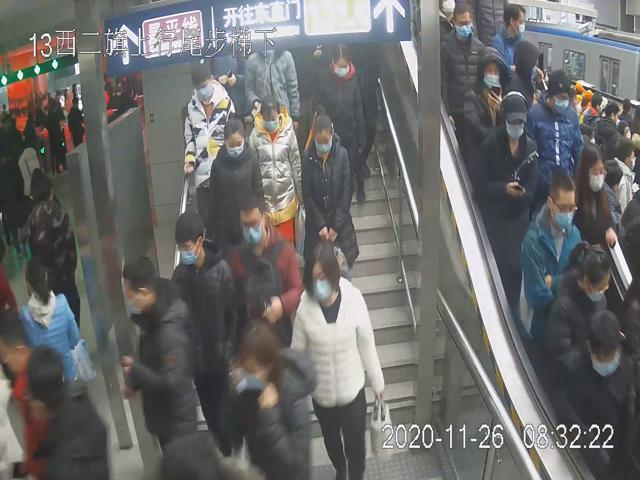person: (289, 238, 385, 480), (167, 209, 241, 454), (223, 193, 303, 351), (519, 171, 580, 362), (300, 102, 358, 278), (486, 92, 539, 275), (180, 56, 235, 221), (244, 95, 303, 245), (311, 42, 369, 194), (208, 116, 265, 258), (463, 43, 509, 182), (440, 2, 485, 144)
